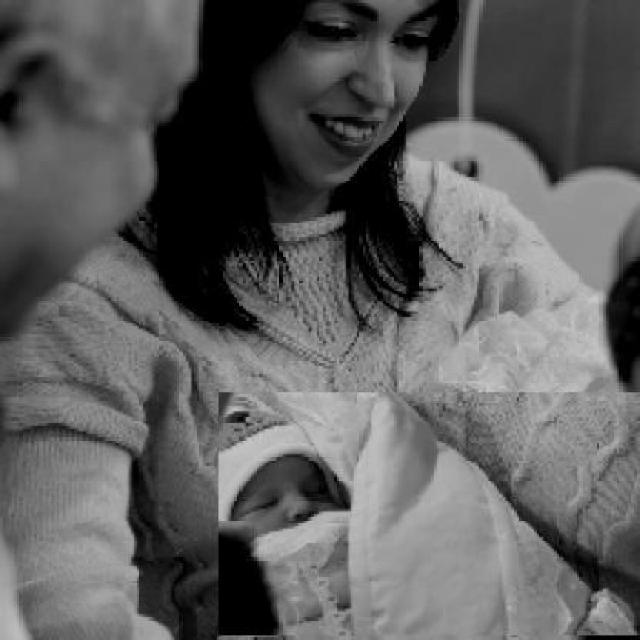child: (217, 392, 640, 637)
